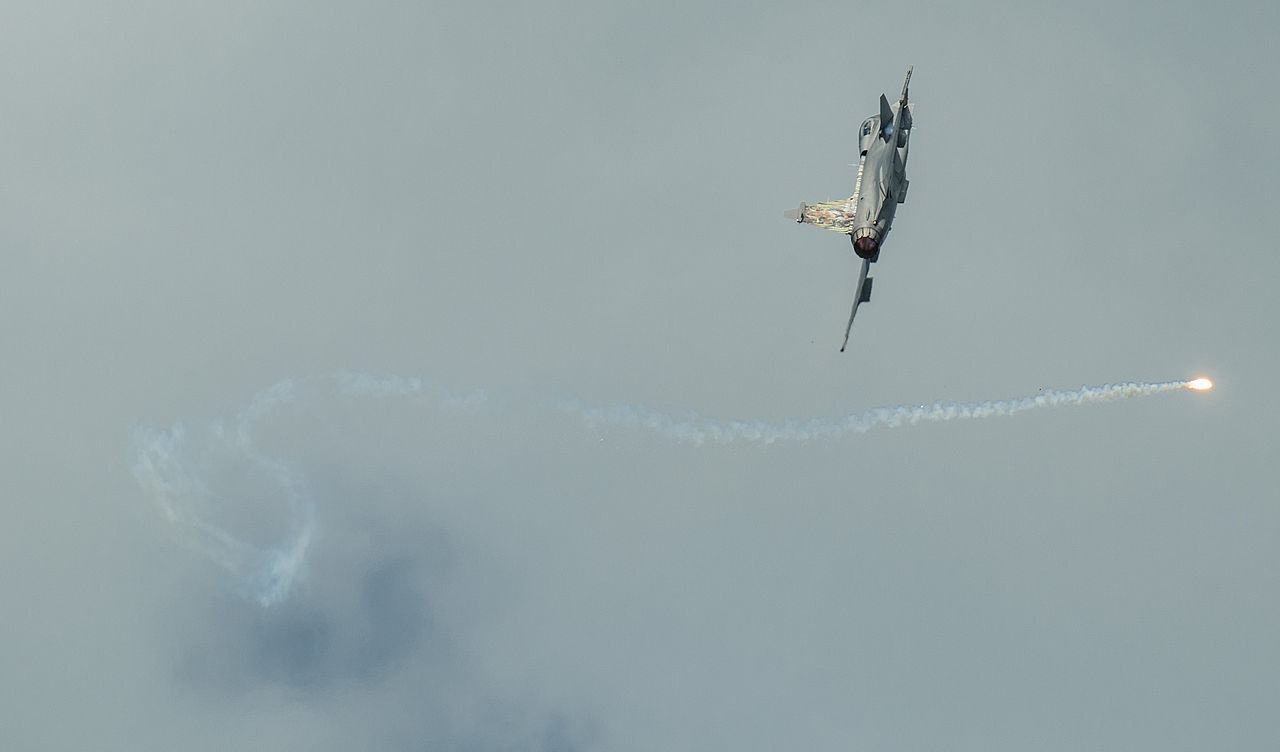JAS39: (784, 64, 916, 352)
